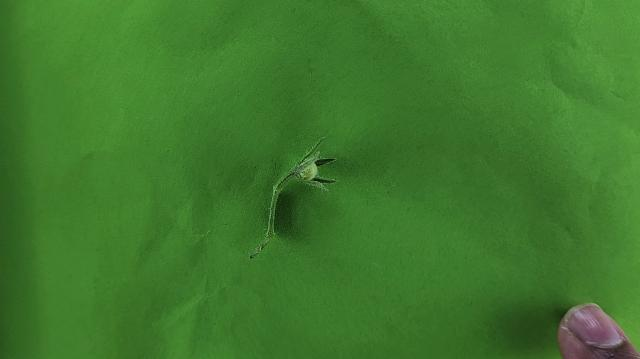Fruit Bud: (287, 137, 339, 191)
